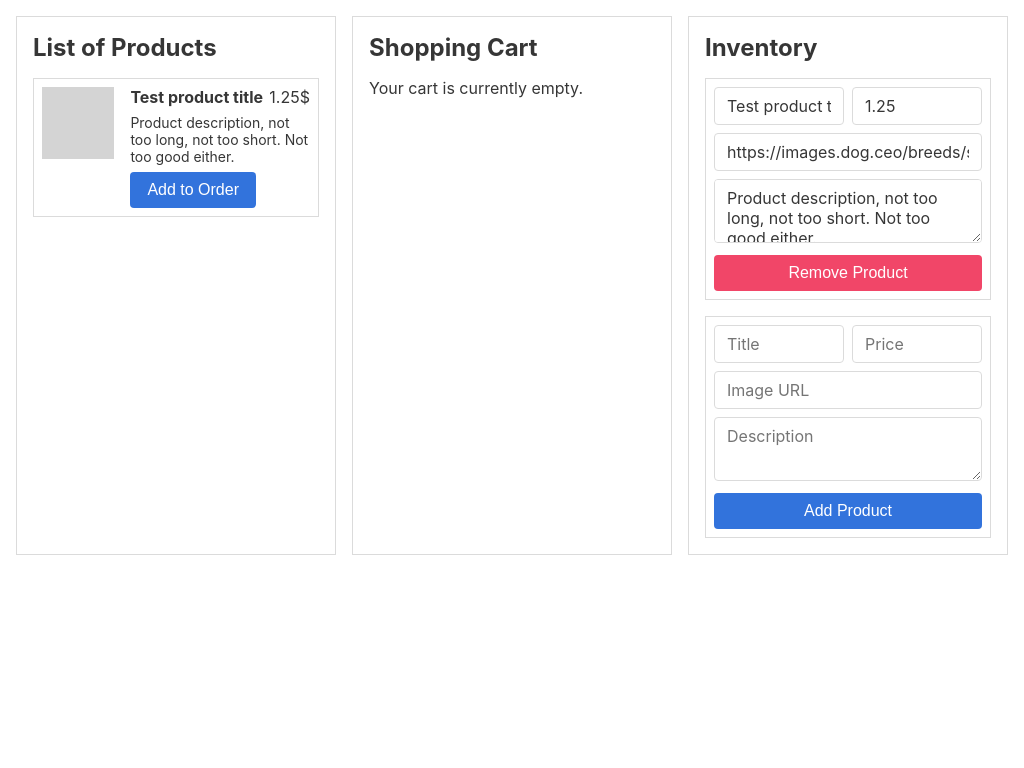
Test case: Full Flow of the App › removes item from showcase and cart when it is removed from inventory, and displays a notification
The width and height of the screenshot is (1024, 768).
Click the button "Add to Order" at {"x": 193, "y": 190}, box [130, 172, 256, 208]
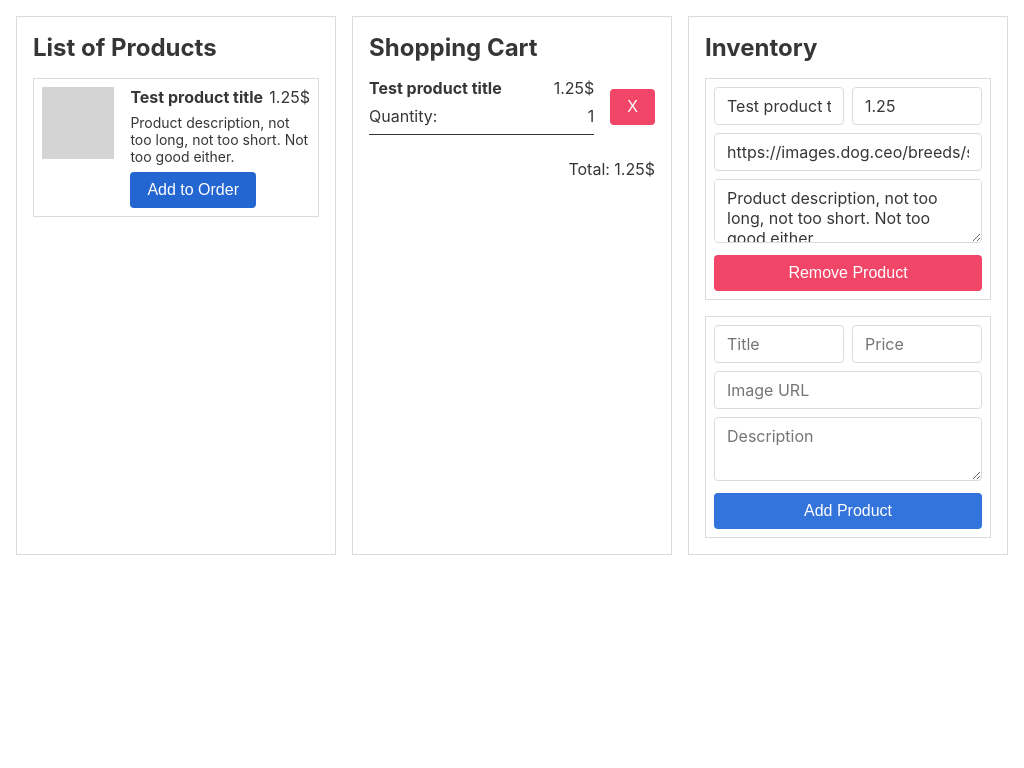
Click the button "Remove Product" at {"x": 848, "y": 273}, box [714, 255, 982, 291]
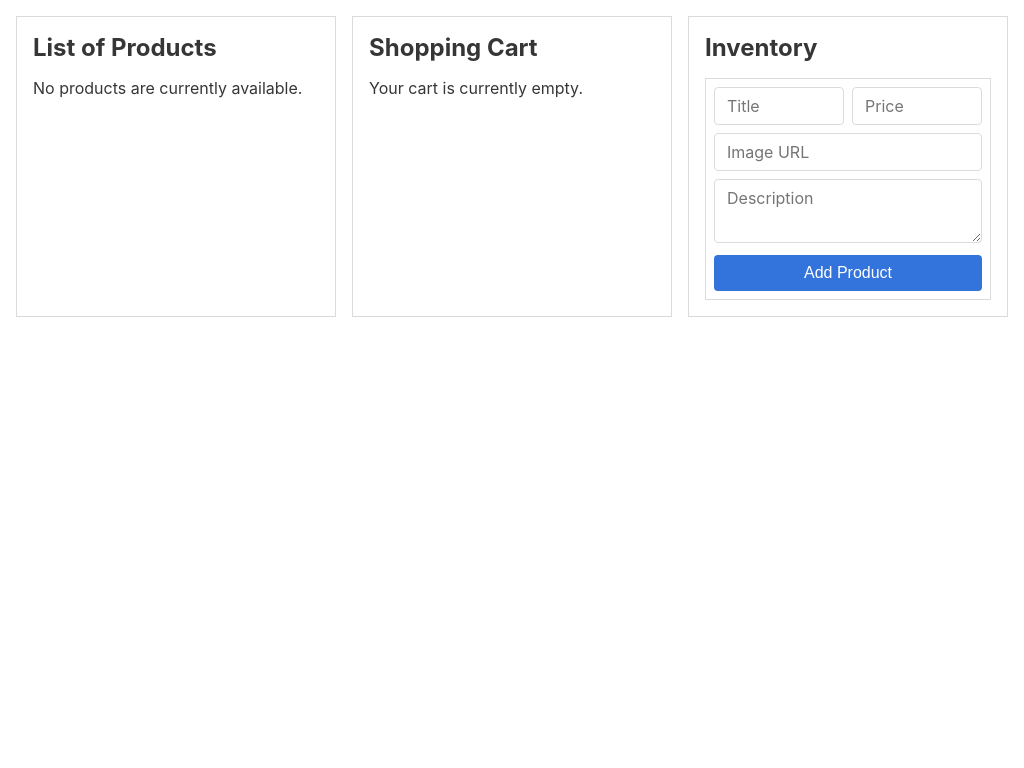
Expected: the heading "Test product title" is gone
